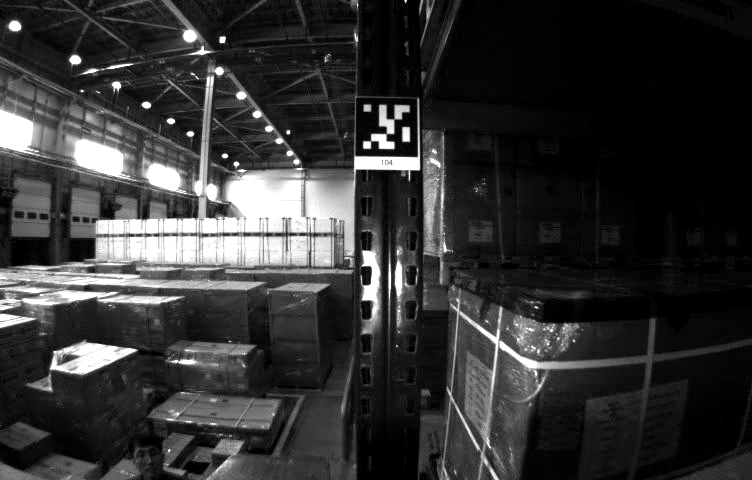True Barcode: (540, 412, 578, 450)
